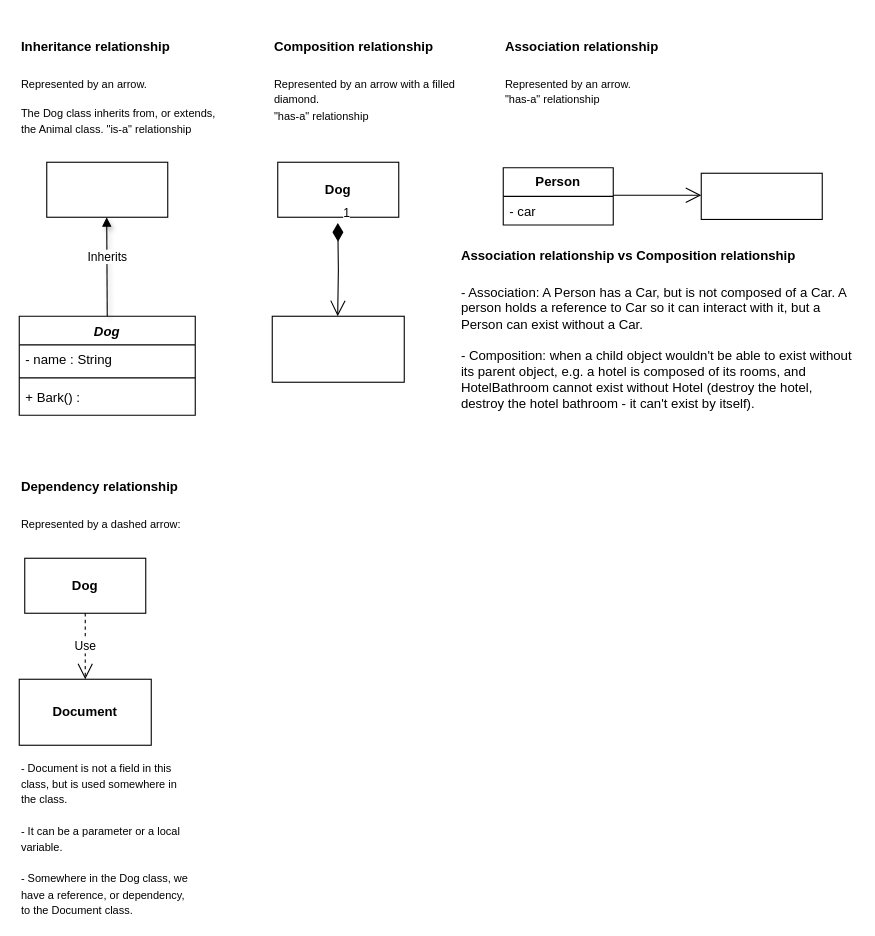
Some shapes in this 875 by 936 pixel diagram are drawn without their labels. Each missing label, with the centre of its shape:
Animal: pixel 107 189
Car: pixel 761 195
Size: pixel 337 348
